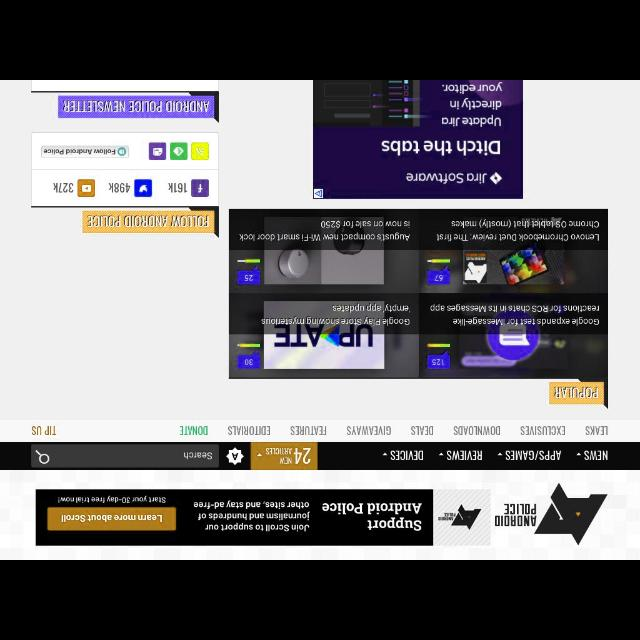icon: (148, 142, 166, 160), (191, 142, 209, 160), (170, 142, 187, 160), (191, 180, 209, 197), (134, 180, 152, 197), (78, 180, 94, 197), (34, 450, 50, 464), (118, 148, 126, 156), (255, 453, 262, 457), (382, 452, 388, 456), (438, 452, 444, 456), (576, 452, 582, 456), (498, 452, 502, 456)
iframe: (313, 81, 523, 199)
image: (230, 210, 608, 378), (36, 490, 490, 546), (494, 482, 608, 546), (437, 504, 481, 530), (226, 447, 244, 465)
input: (31, 444, 219, 468)
multitab: (1, 420, 640, 442)
spinner: (254, 447, 312, 465), (496, 450, 562, 460), (438, 450, 482, 460), (381, 450, 423, 460), (576, 450, 608, 460)
text: (436, 218, 600, 242), (238, 220, 410, 242), (194, 500, 310, 532), (430, 303, 598, 325), (260, 302, 410, 326), (322, 503, 422, 531), (62, 100, 210, 112), (87, 216, 209, 227), (58, 494, 166, 504), (61, 514, 162, 522), (265, 448, 311, 464), (504, 450, 562, 460), (43, 148, 115, 156), (554, 386, 598, 398), (454, 426, 501, 434), (519, 426, 565, 434), (446, 450, 482, 460), (290, 425, 326, 435), (346, 426, 390, 434), (390, 450, 424, 460), (228, 426, 270, 434), (584, 450, 608, 460), (584, 425, 608, 435), (184, 452, 212, 460), (179, 426, 207, 434), (108, 182, 130, 192), (52, 183, 74, 193), (167, 183, 187, 193), (32, 426, 56, 434), (411, 426, 434, 434)
textbutton: (47, 507, 176, 531), (40, 146, 128, 158)
toolbar: (1, 442, 639, 470)
